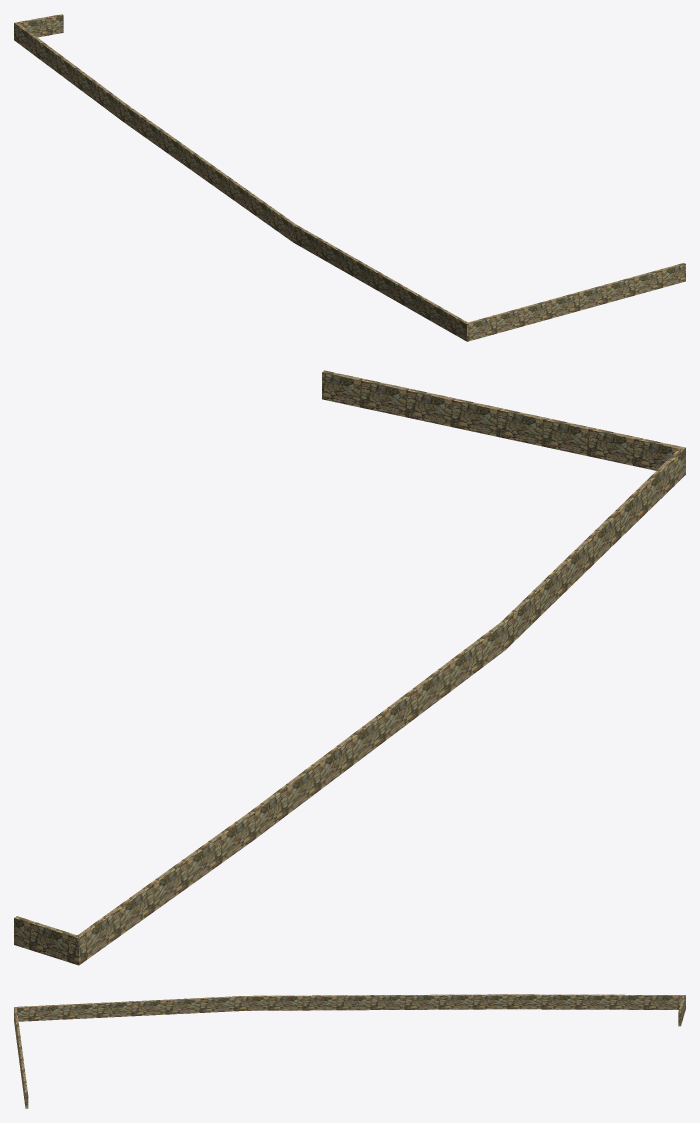
The model's file is des_clifftwal.obj.
The picture shows the model from 3 angles, top to bottom: view 1: azimuth 30°, elevation 25°; view 2: azimuth 150°, elevation 25°; view 3: azimuth 270°, elevation 25°; orthographic projection. The views are drawn at different scales.
Parts seen in each view (by area): view 1: des_clifftwal; view 2: des_clifftwal; view 3: des_clifftwal.
Part boxes in pixels (bbox=[...]): des_clifftwal: bbox=[14, 14, 685, 341]; des_clifftwal: bbox=[14, 370, 685, 965]; des_clifftwal: bbox=[14, 994, 685, 1108].
Bounding box in the file's own units: 18.58 × 1.19 × 52.56.
1 material, 1 textured.
